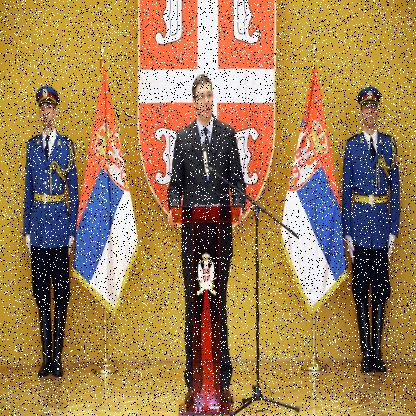rs: (74, 61, 140, 314), (281, 67, 348, 315)
